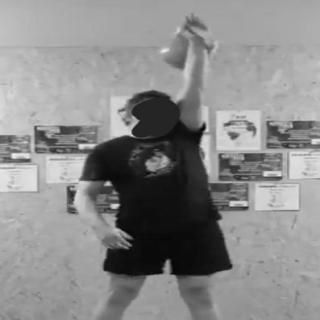kettlebell: (161, 20, 223, 76)
